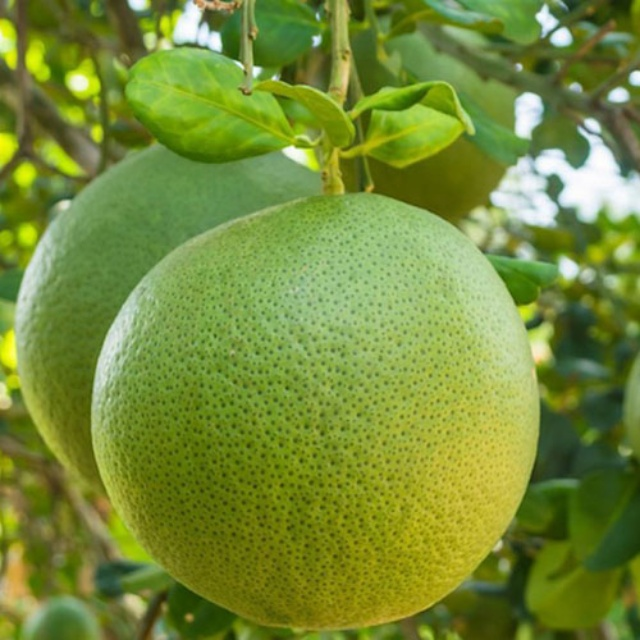buoi: (88, 190, 544, 633)
